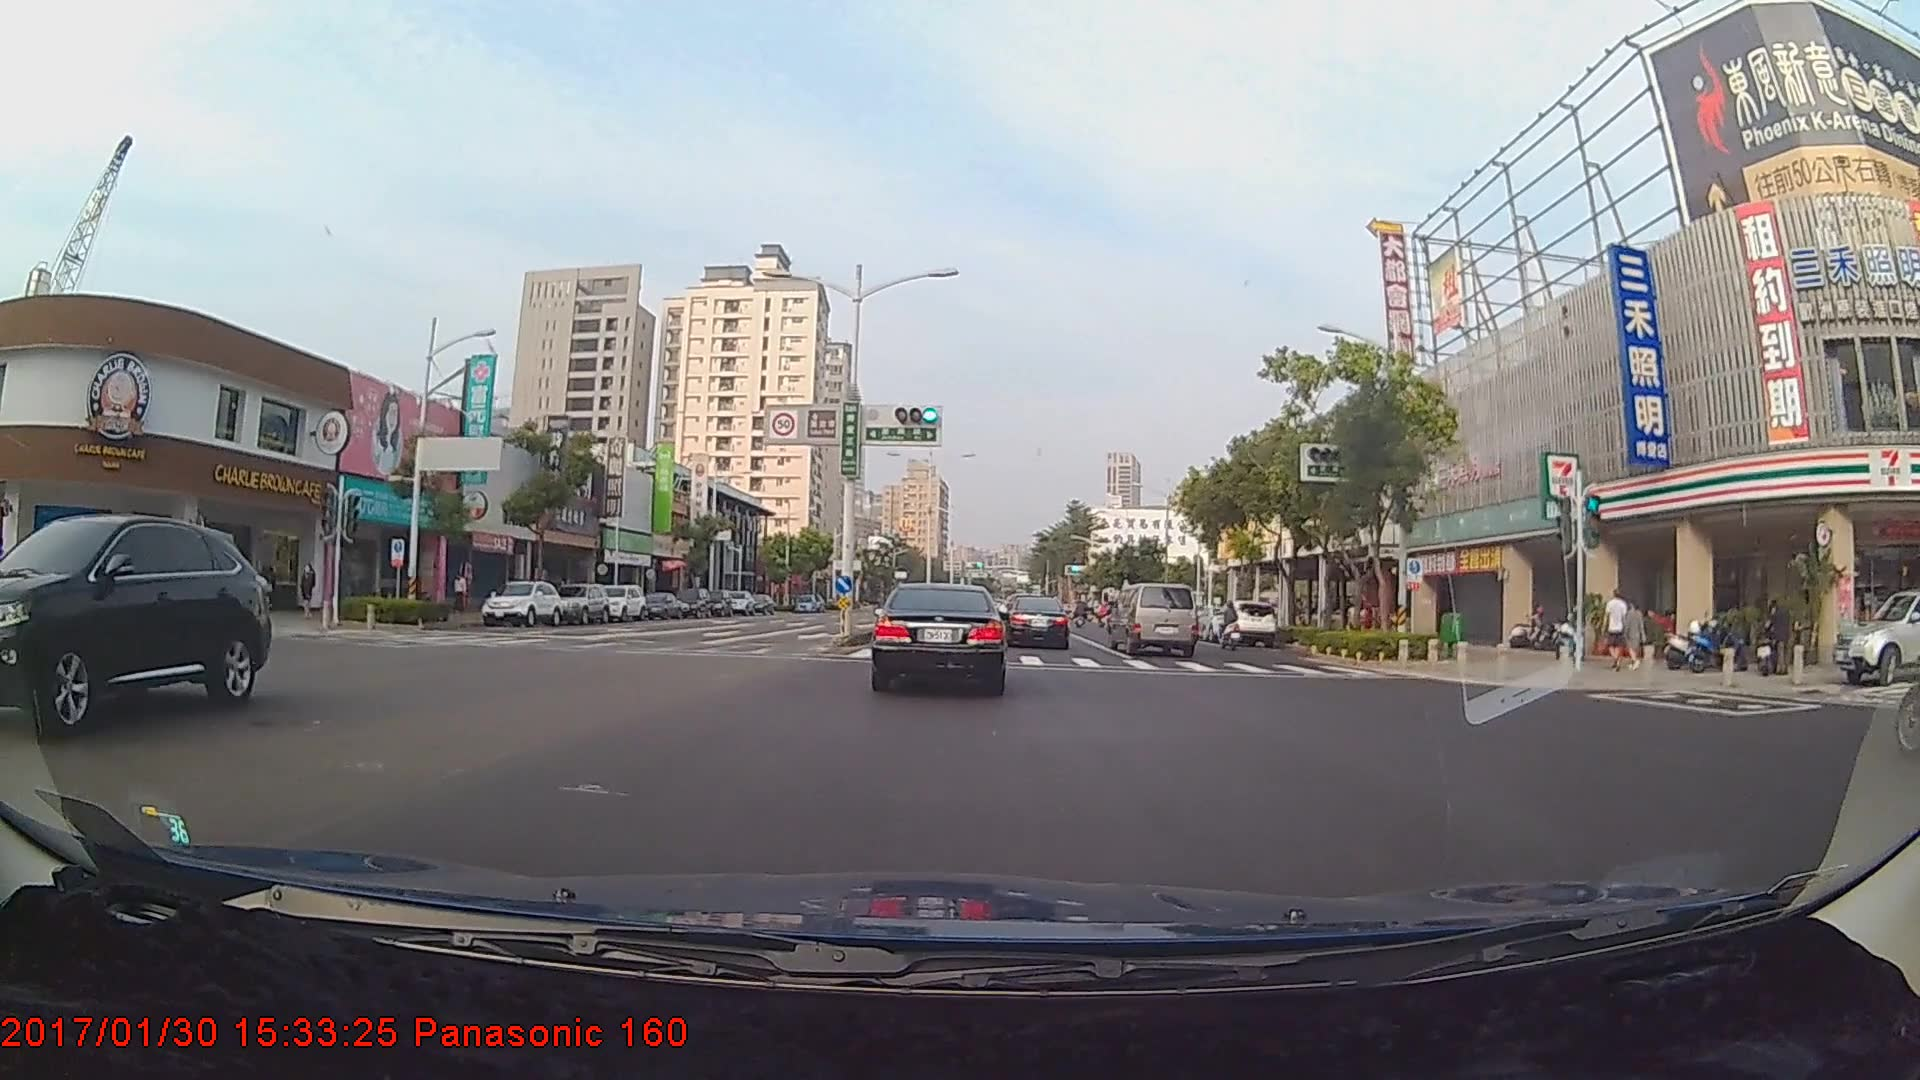pedestrian: (1599, 585, 1627, 673), (1624, 597, 1648, 673), (299, 562, 319, 621), (451, 571, 472, 616)
rider: (1211, 596, 1245, 648)
vehicle: (0, 514, 271, 734), (872, 580, 1006, 694), (1830, 591, 1918, 685), (1110, 583, 1197, 657), (476, 576, 564, 625), (1002, 596, 1071, 650), (1211, 597, 1277, 646), (550, 581, 608, 623), (594, 583, 648, 624), (640, 591, 681, 620)
